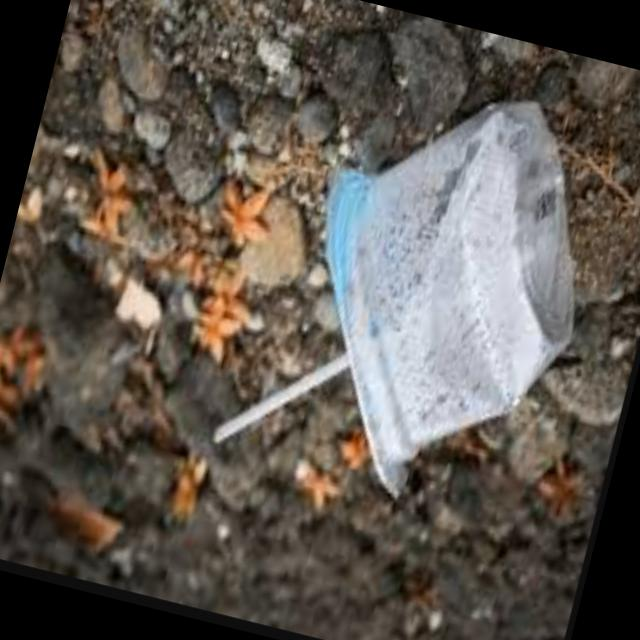GelasPlastik: (209, 45, 626, 533)
